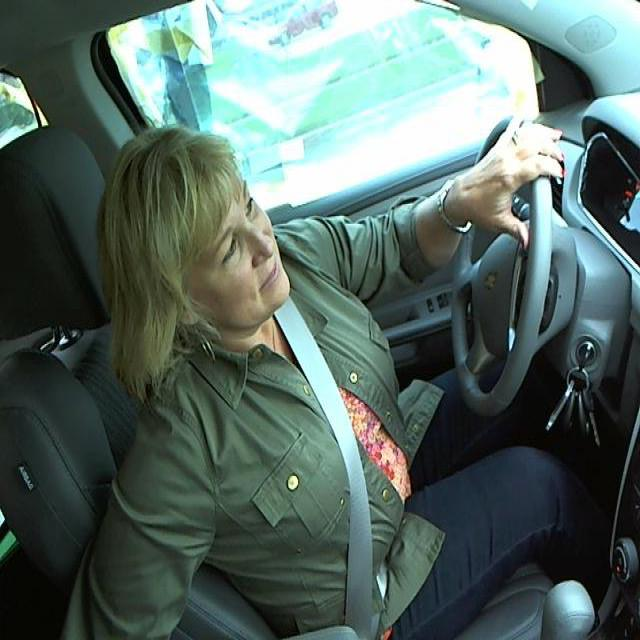seatbelt: (283, 332, 405, 628)
